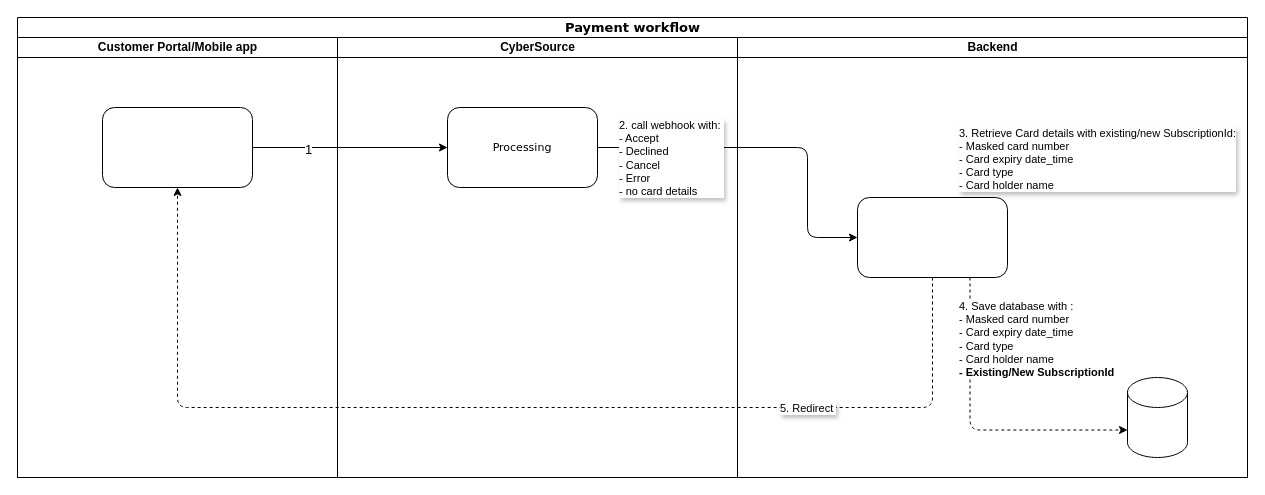
Image size: 1265x495. Some labels were removed from this diagram. The shapes that lost their labels are listed below. From the top down, each one's centre as x and y in pixels, then its label:
At [177,147]: "Make payment".
At [932,237]: "/end-payment".
